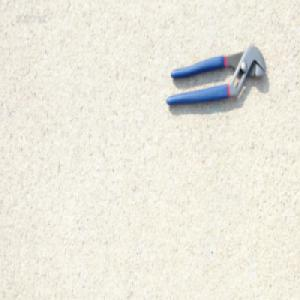Pliers: (164, 45, 265, 109)
